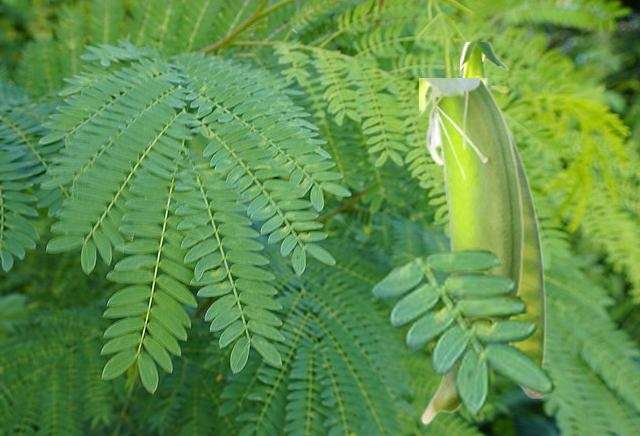pea: (419, 78, 526, 424), (489, 86, 548, 397), (460, 42, 508, 85)
